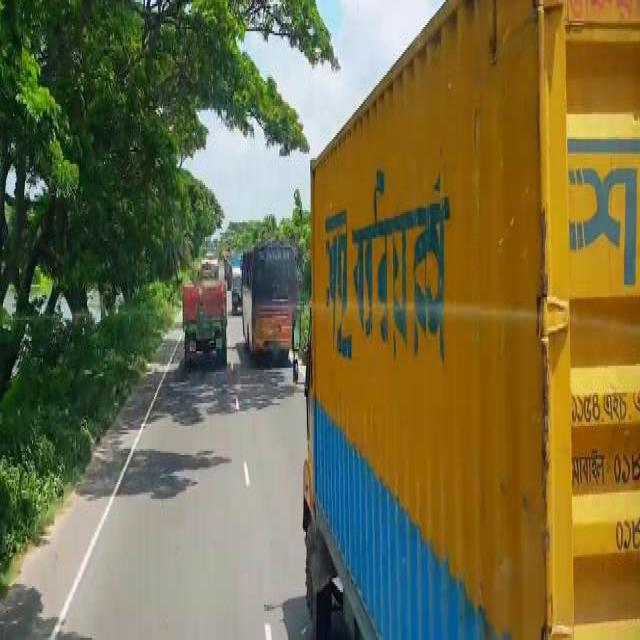bus: (239, 241, 298, 370)
truck: (287, 0, 638, 632), (179, 266, 228, 372)
